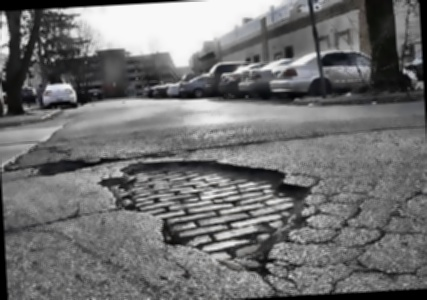pothole: (100, 149, 324, 284), (30, 156, 96, 178)
